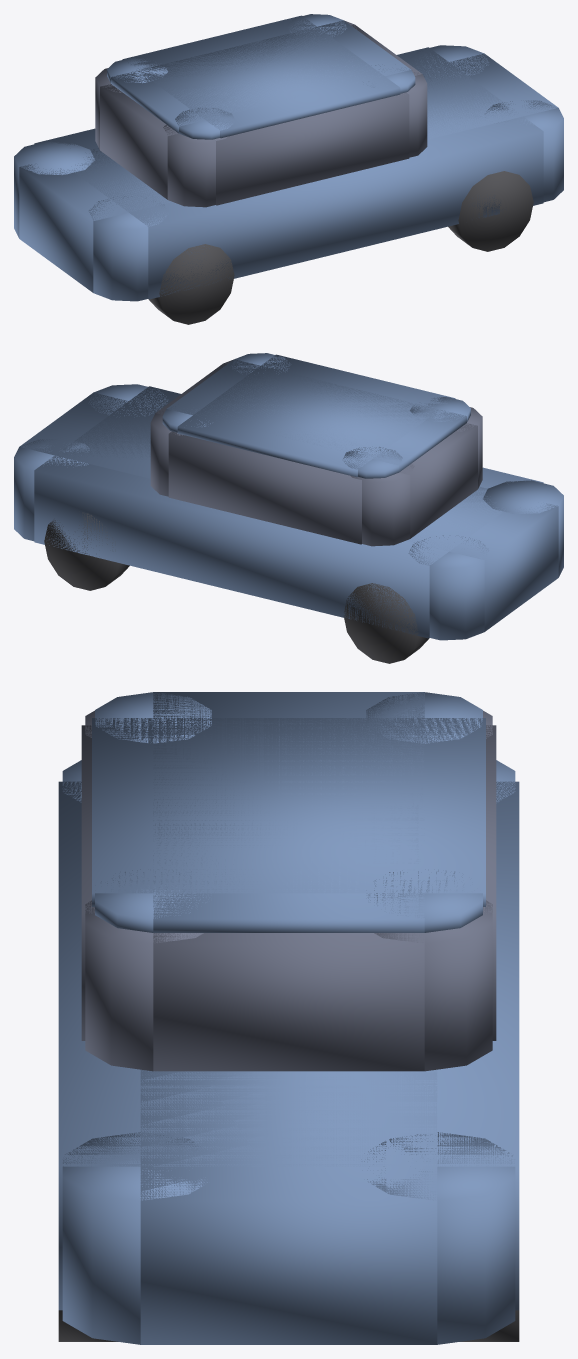
The model's file is car_blue.glb.
The picture shows the model from 3 angles, top to bottom: view 1: azimuth 30°, elevation 25°; view 2: azimuth 150°, elevation 25°; view 3: azimuth 270°, elevation 25°; orthographic projection. The views are drawn at different scales.
Parts seen in each view (by area): view 1: car_blue; view 2: car_blue; view 3: car_blue.
Boxes of the visible parts, x1,y1,x2,y2 form: car_blue: (14,14,563,324); car_blue: (14,353,563,663); car_blue: (58,692,519,1344).
Size of the model in its own units: 4.2 by 1.53 by 1.8.
